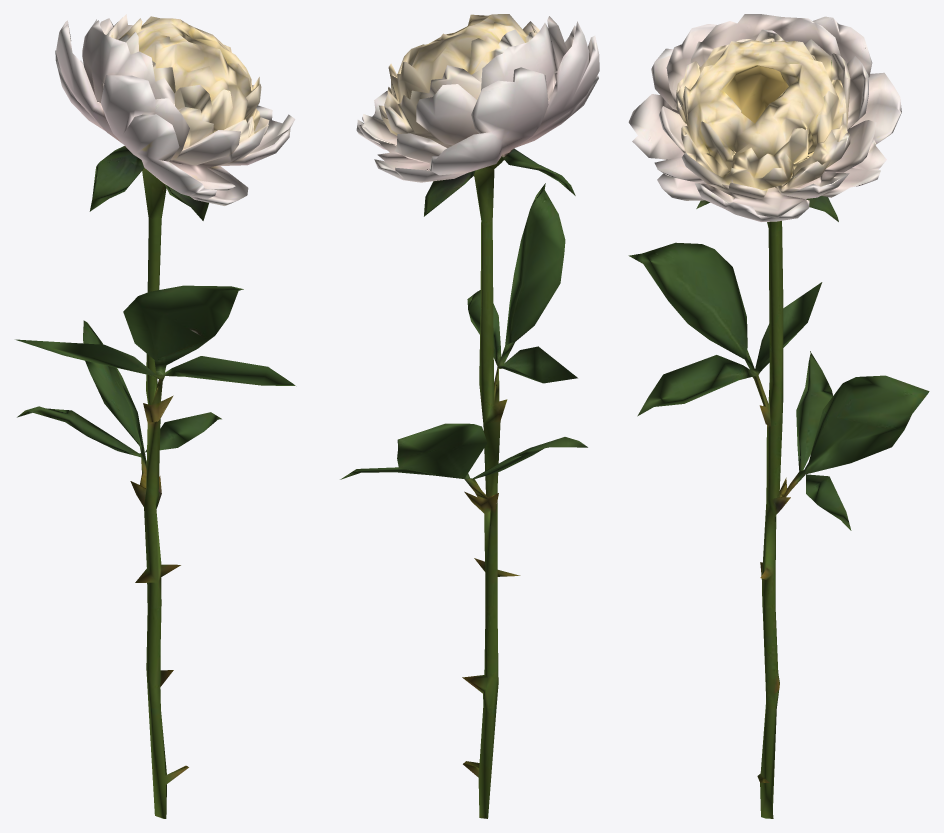
File: WhitePeony.glb
3 renders of one model, left to right at view 1: azimuth 30°, elevation 25°; view 2: azimuth 150°, elevation 25°; view 3: azimuth 270°, elevation 25°, orthographic. The views are drawn at different scales.
Parts seen in each view (by area): view 1: tripo_node_87089d09-2c43-440d-aff9-6bb8ca9ff486; view 2: tripo_node_87089d09-2c43-440d-aff9-6bb8ca9ff486; view 3: tripo_node_87089d09-2c43-440d-aff9-6bb8ca9ff486.
Boxes of the visible parts, x1,y1,x2,y2 form: tripo_node_87089d09-2c43-440d-aff9-6bb8ca9ff486: (15,14,295,818); tripo_node_87089d09-2c43-440d-aff9-6bb8ca9ff486: (340,14,599,818); tripo_node_87089d09-2c43-440d-aff9-6bb8ca9ff486: (628,14,929,818).
Bounding box in the file's own units: 0.3195 × 0.9973 × 0.3484.
Materials: 1 (1 with a texture image).
